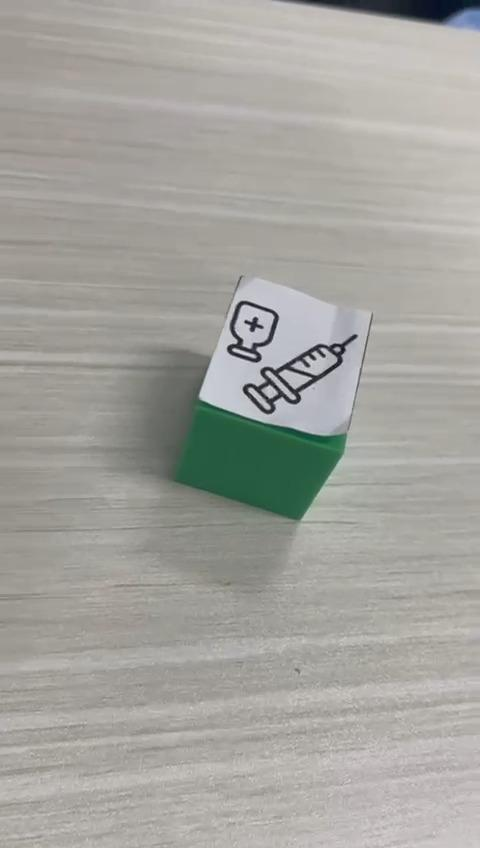antiseptic cream: (171, 272, 374, 521)
